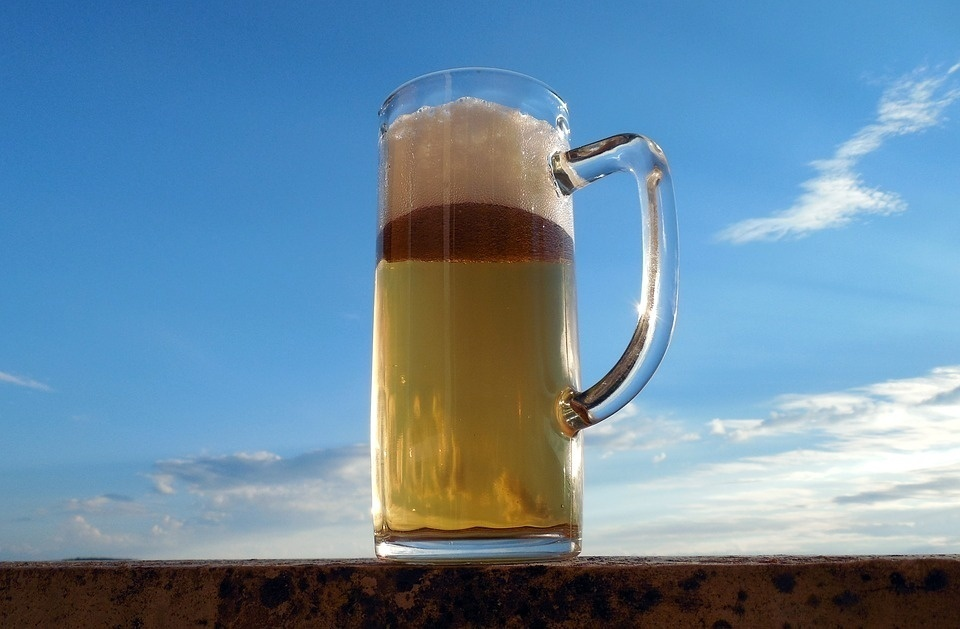whiskey: (368, 97, 593, 541)
